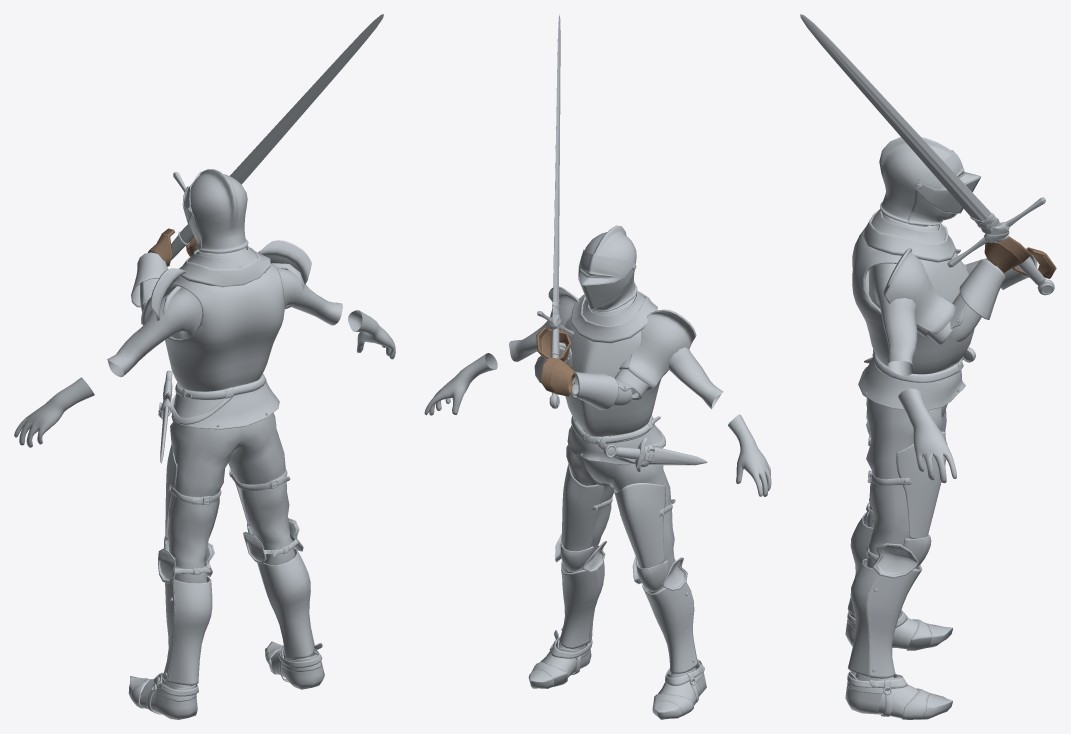
Rendered from guard.glb.
3 renders of one model, left to right at view 1: azimuth 30°, elevation 25°; view 2: azimuth 150°, elevation 25°; view 3: azimuth 270°, elevation 25°, orthographic. The views are drawn at different scales.
Parts seen in each view (by area): view 1: Human_BaseMesh, Torso_plate, Lower_torso_plate, Helmet, L_shin_plate, R_shin_plate, Longsword, L_foot_guard, R_foot_guard, R_shoulder, L_knee_plate, L_thigh_plate (+3 smaller); view 2: Human_BaseMesh, Torso_plate, Helmet, Lower_torso_plate, L_thigh_plate, L_shoulder, L_shin_plate, R_shin_plate, R_thigh_plate, Longsword, L_knee_plate, L_wrist_plate (+8 smaller); view 3: Human_BaseMesh, Torso_plate, Longsword, Helmet, R_shin_plate, Lower_torso_plate, R_shoulder, R_thigh_plate, R_foot_guard, R_knee_plate, R_wrist_plate, R_toe_plate (+5 smaller).
Boxes of the visible parts, left/top/right/bottom form: Human_BaseMesh: left=14, top=251, right=395, bottom=689; Torso_plate: left=165, top=245, right=284, bottom=391; Lower_torso_plate: left=158, top=370, right=279, bottom=463; Helmet: left=182, top=169, right=248, bottom=253; L_shin_plate: left=162, top=576, right=212, bottom=685; R_shin_plate: left=257, top=547, right=314, bottom=658; Longsword: left=171, top=14, right=383, bottom=260; L_foot_guard: left=139, top=672, right=198, bottom=719; R_foot_guard: left=271, top=643, right=324, bottom=689; R_shoulder: left=258, top=240, right=311, bottom=284; L_knee_plate: left=158, top=536, right=214, bottom=583; L_thigh_plate: left=165, top=444, right=221, bottom=540; Human_BaseMesh: left=424, top=273, right=771, bottom=676; Torso_plate: left=561, top=290, right=661, bottom=436; Helmet: left=578, top=225, right=637, bottom=311; Lower_torso_plate: left=567, top=415, right=707, bottom=471; L_thigh_plate: left=614, top=483, right=675, bottom=568; L_shoulder: left=628, top=309, right=696, bottom=388; L_shin_plate: left=642, top=582, right=697, bottom=673; R_shin_plate: left=559, top=560, right=604, bottom=648; R_thigh_plate: left=561, top=464, right=612, bottom=551; Longsword: left=537, top=14, right=573, bottom=408; L_knee_plate: left=632, top=556, right=687, bottom=591; L_wrist_plate: left=571, top=372, right=618, bottom=409; Human_BaseMesh: left=855, top=210, right=956, bottom=701; Torso_plate: left=852, top=209, right=974, bottom=374; Longsword: left=800, top=14, right=1054, bottom=295; Helmet: left=879, top=137, right=980, bottom=225; R_shin_plate: left=847, top=558, right=922, bottom=678; Lower_torso_plate: left=858, top=347, right=975, bottom=410; R_shoulder: left=883, top=247, right=955, bottom=334; R_thigh_plate: left=867, top=431, right=945, bottom=538; R_foot_guard: left=845, top=671, right=918, bottom=718; R_knee_plate: left=866, top=534, right=931, bottom=578; R_wrist_plate: left=959, top=259, right=1005, bottom=319; R_toe_plate: left=902, top=688, right=952, bottom=719.
Bounding box in the file's own units: 1.53 × 2.69 × 0.8651.
